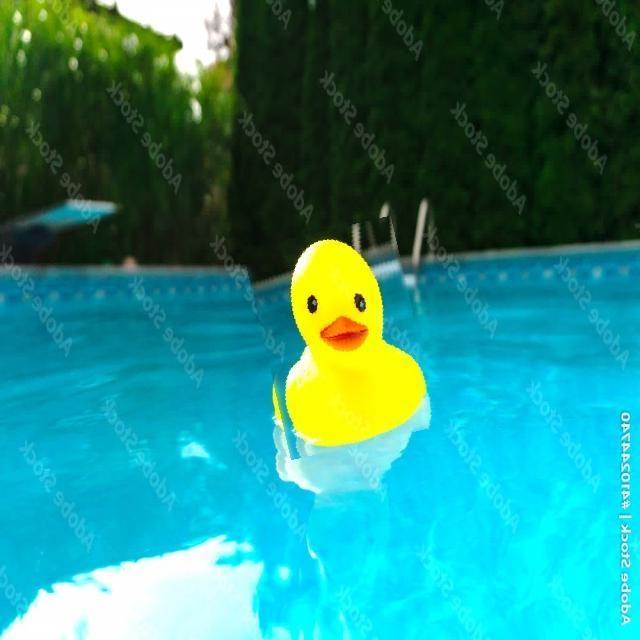rubber-duck: (284, 239, 424, 444)
